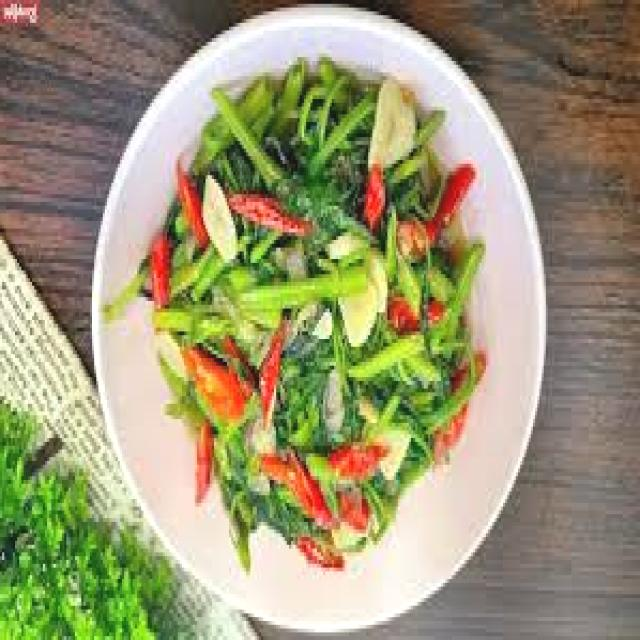tumis kangkung: (105, 57, 488, 575)
